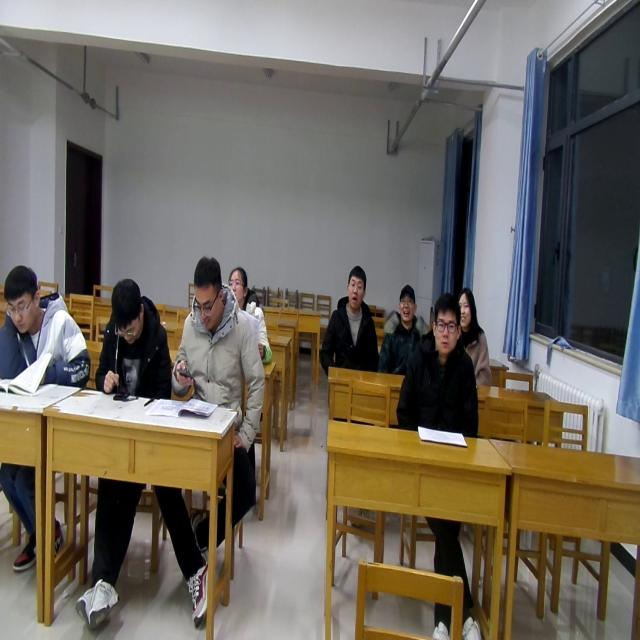bow: (0, 266, 91, 391)
down: (0, 258, 42, 336), (187, 251, 226, 332), (108, 270, 145, 345)
lookup: (426, 290, 462, 357), (341, 260, 369, 312), (456, 283, 478, 334), (394, 280, 418, 322), (227, 261, 250, 303)
sit: (170, 256, 264, 406), (394, 292, 483, 436), (95, 279, 172, 401), (320, 266, 381, 375), (227, 265, 274, 366), (379, 285, 429, 375), (457, 286, 492, 386)
